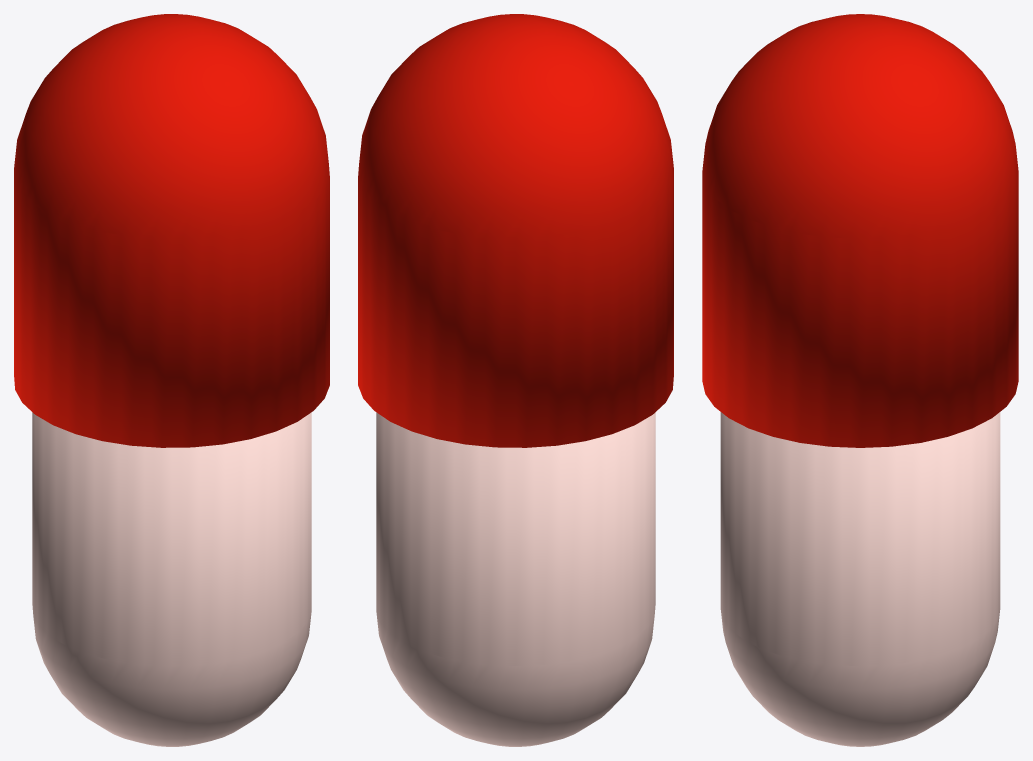
The picture shows the model from 3 angles, left to right: view 1: azimuth 30°, elevation 25°; view 2: azimuth 150°, elevation 25°; view 3: azimuth 270°, elevation 25°; orthographic projection.
Visible parts, largest first — view 1: cap_top, cap_bottom; view 2: cap_top, cap_bottom; view 3: cap_top, cap_bottom.
Part boxes in pixels (left/top/right/bottom): cap_top: left=14, top=14, right=329, bottom=447; cap_bottom: left=32, top=412, right=311, bottom=746; cap_top: left=358, top=14, right=673, bottom=447; cap_bottom: left=376, top=412, right=655, bottom=746; cap_top: left=702, top=14, right=1018, bottom=447; cap_bottom: left=720, top=412, right=1000, bottom=746.
Bounding box in the file's own units: 2 × 4.92 × 2.
